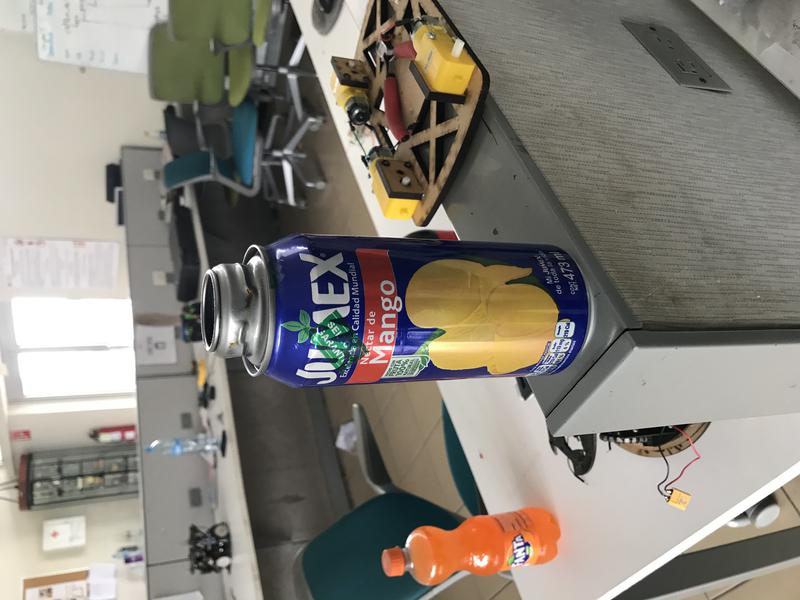fanta: (379, 508, 563, 585)
jumex_botella: (201, 234, 595, 389)
